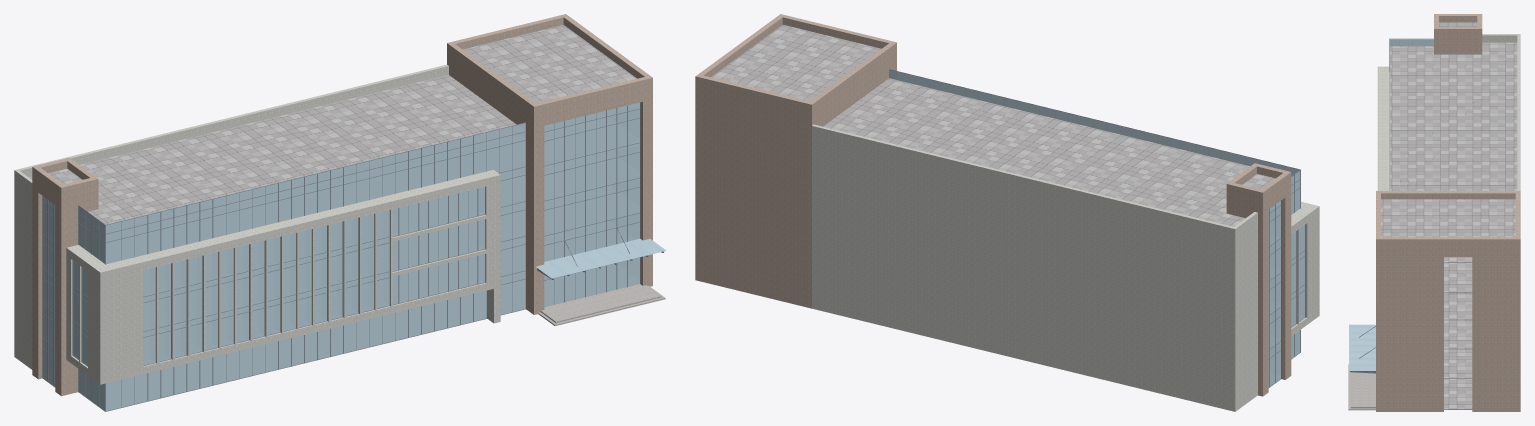
3 views of the same model, side by side, from view 1: azimuth 30°, elevation 25°; view 2: azimuth 150°, elevation 25°; view 3: azimuth 270°, elevation 25° (orthographic). The views are drawn at different scales.
Visible parts, largest first — view 1: 办公楼02; view 2: 办公楼02; view 3: 办公楼02.
Boxes of the visible parts, x1=… form: 办公楼02: x1=14, y1=14, x2=666, y2=411; 办公楼02: x1=695, y1=14, x2=1319, y2=411; 办公楼02: x1=1348, y1=14, x2=1520, y2=411.
Bounding box in the file's own units: 65.49 × 23.42 × 21.14.
Materials: 6 (4 with a texture image).
